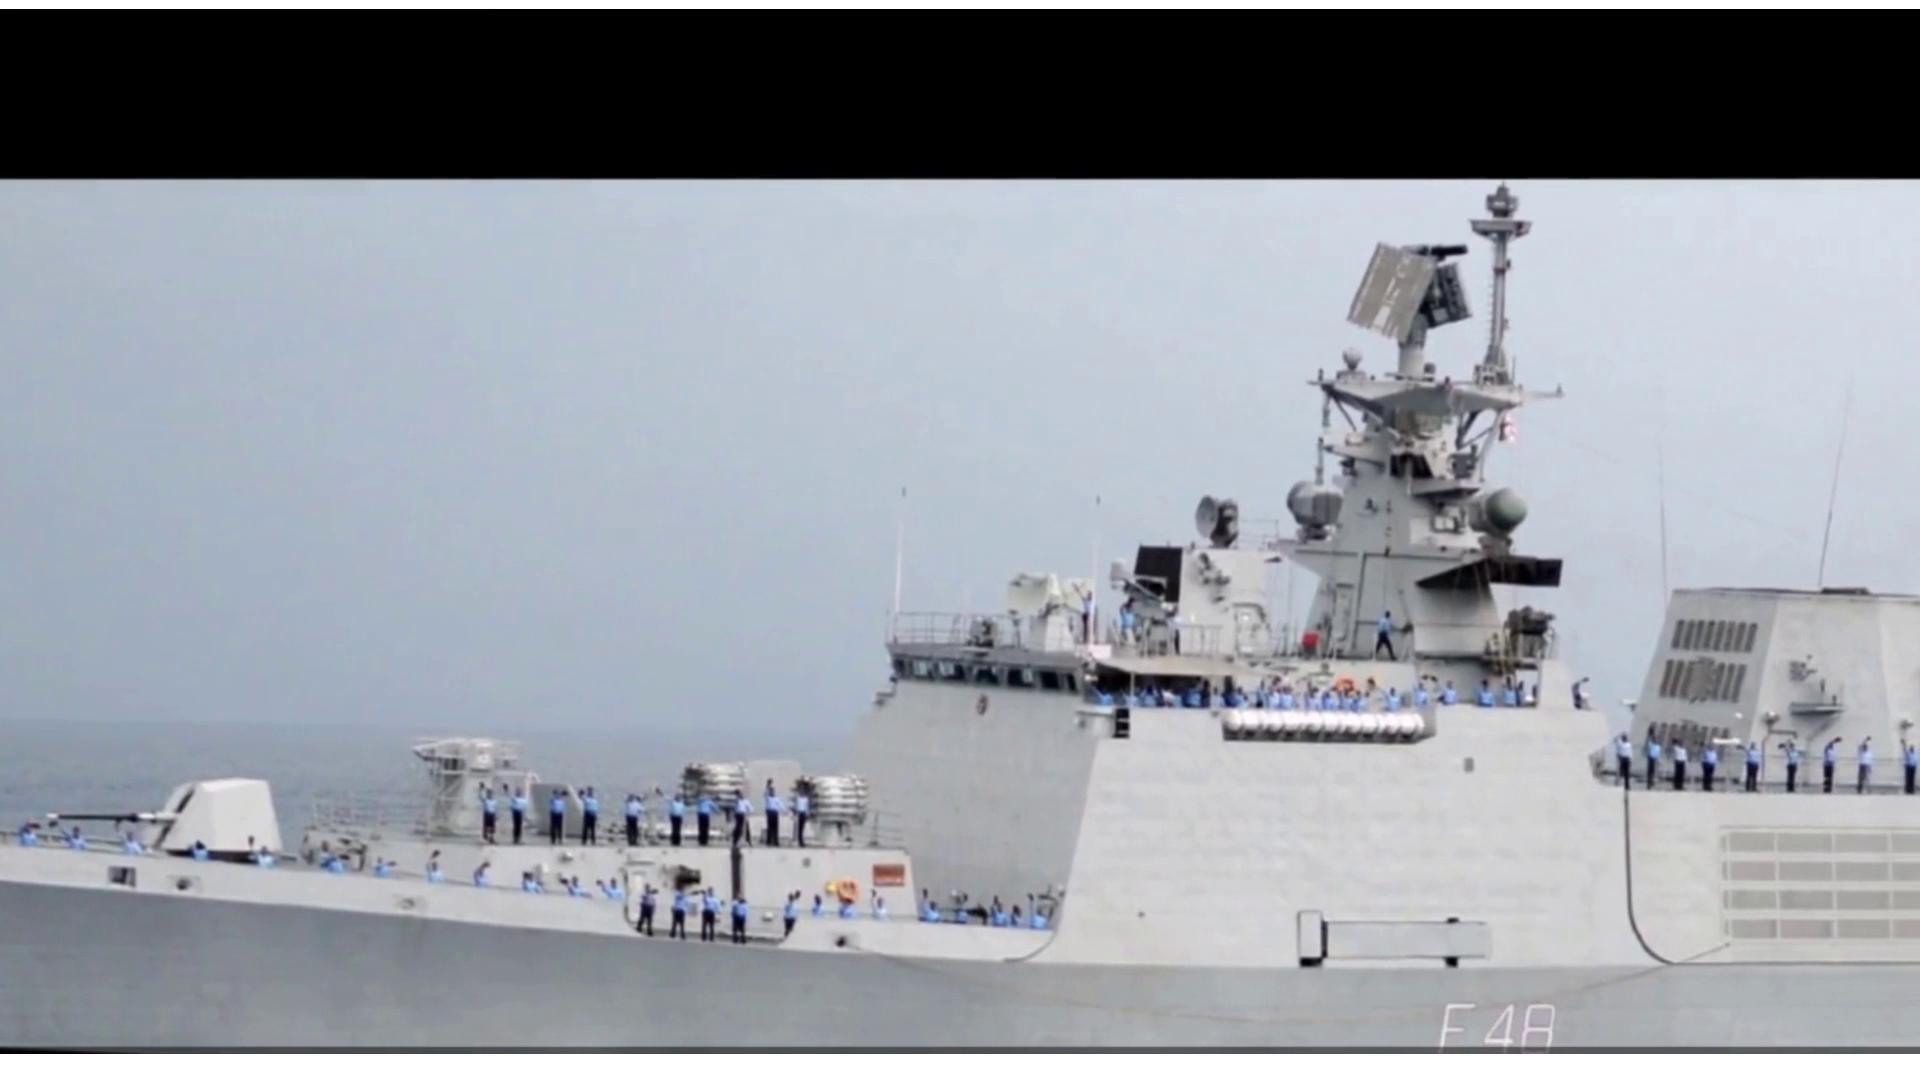OCR: (1411, 990, 1569, 1052)
